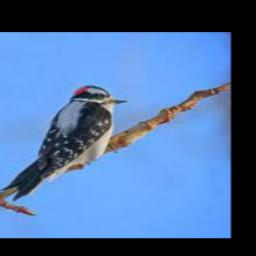Woodpecker: (2, 85, 127, 200)
